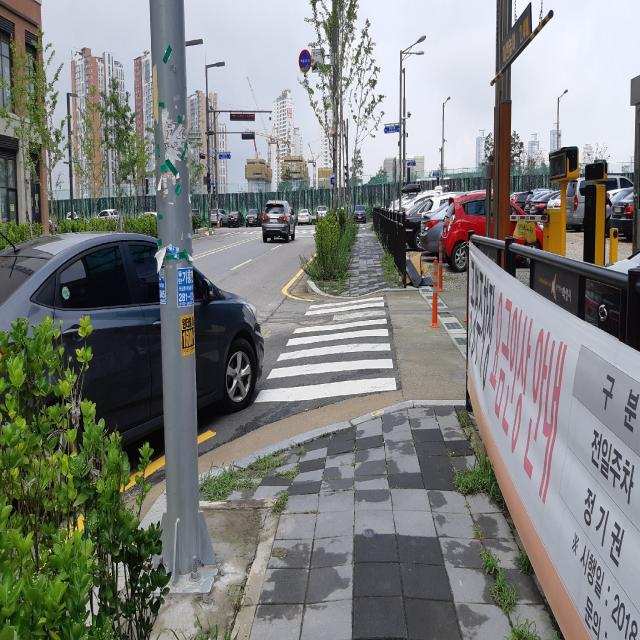횡단보도: (253, 295, 398, 405)
